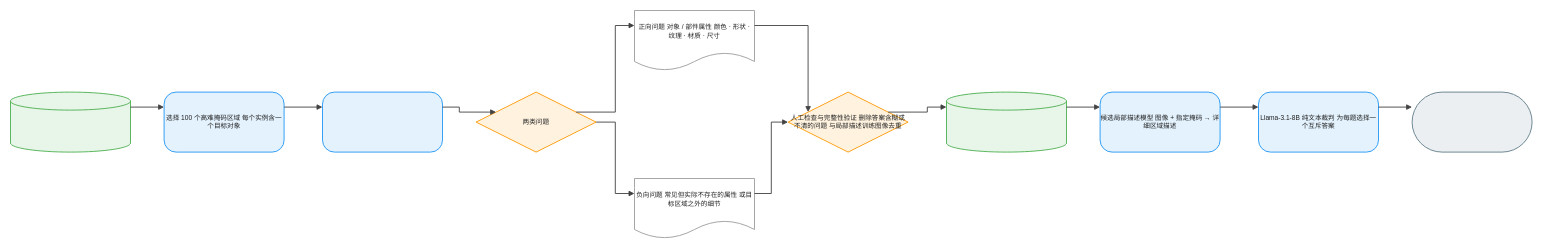
The diagram is 1543 pixels wide and 250 high, and some of its shapes have lost their labels. Each missing label, with the centre of its shape:
DLC-Bench 100 个掩码实例 · 892 个验证问题 无需参考描述: [1006,121]
Objects365 v2 验证集子集 带人工分割掩码的对象实例: [70,121]
多视觉语言模型提出属性 GPT-4o 34 · Gemini-1.5-Pro 35 Claude-3.5-Sonnet 31 个区域: [382,121]
无参考局部描述报告 正向：+1 / +0.5 / 0 / −1 负向：遗漏得分，幻觉扣分 报告正向 · 负向 · 平均分: [1471,121]
